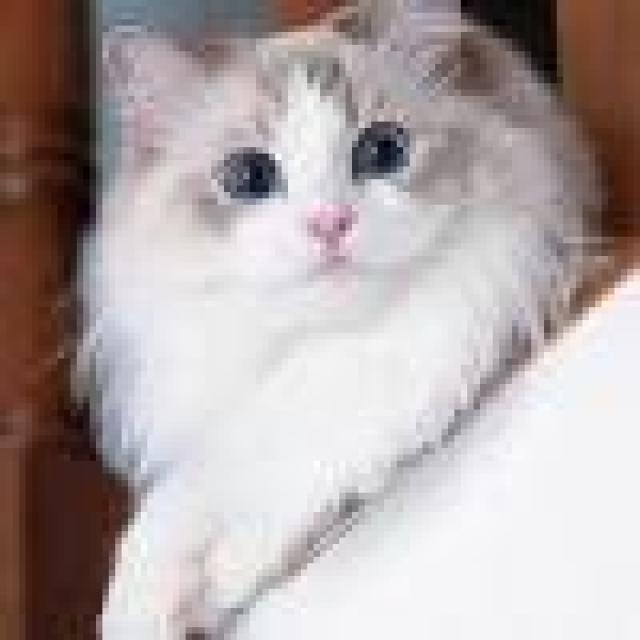Cat: (73, 0, 600, 639)
